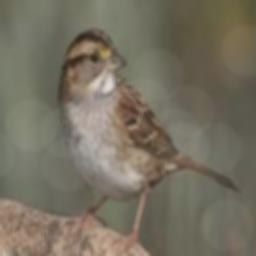Sparrow: (59, 30, 242, 254)
